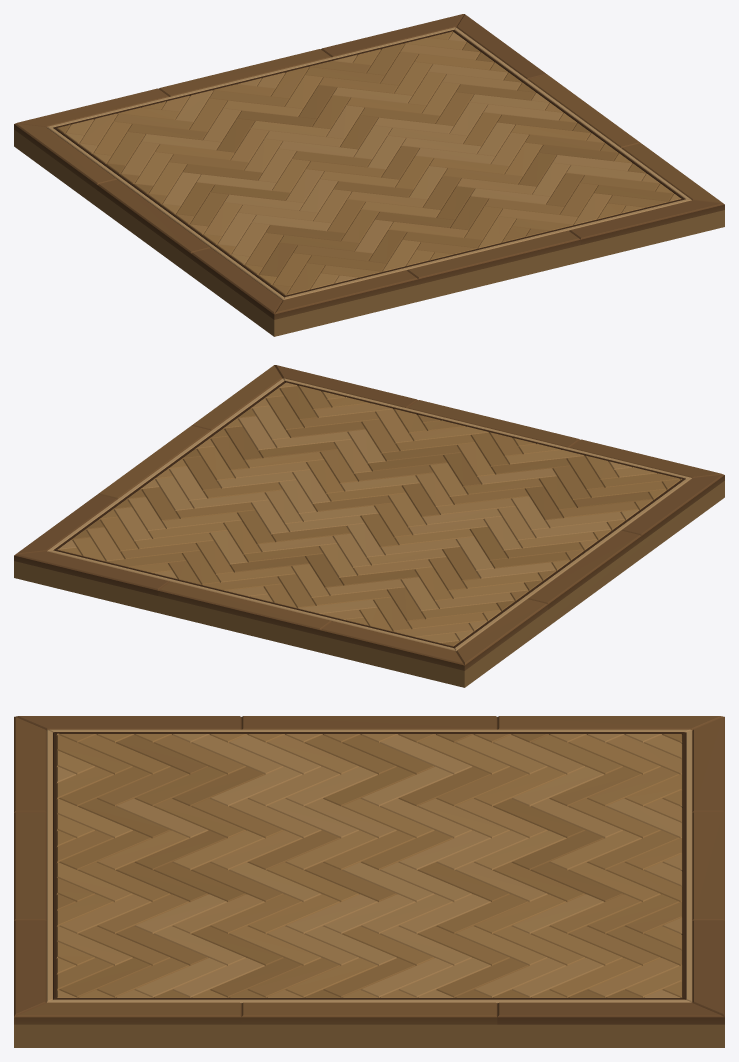
The model's file is library-floor-parquet.glb.
3 views of the same model, one above another, from view 1: azimuth 30°, elevation 25°; view 2: azimuth 150°, elevation 25°; view 3: azimuth 270°, elevation 25° (orthographic). The views are drawn at different scales.
Visible parts, largest first — view 1: library_floor_parquet; view 2: library_floor_parquet; view 3: library_floor_parquet.
Part boxes in pixels (x1,y1,x2,y2): library_floor_parquet: (14, 14, 724, 336); library_floor_parquet: (14, 365, 724, 687); library_floor_parquet: (14, 716, 724, 1047).
Size of the model in its own units: 2 by 0.1 by 2.
